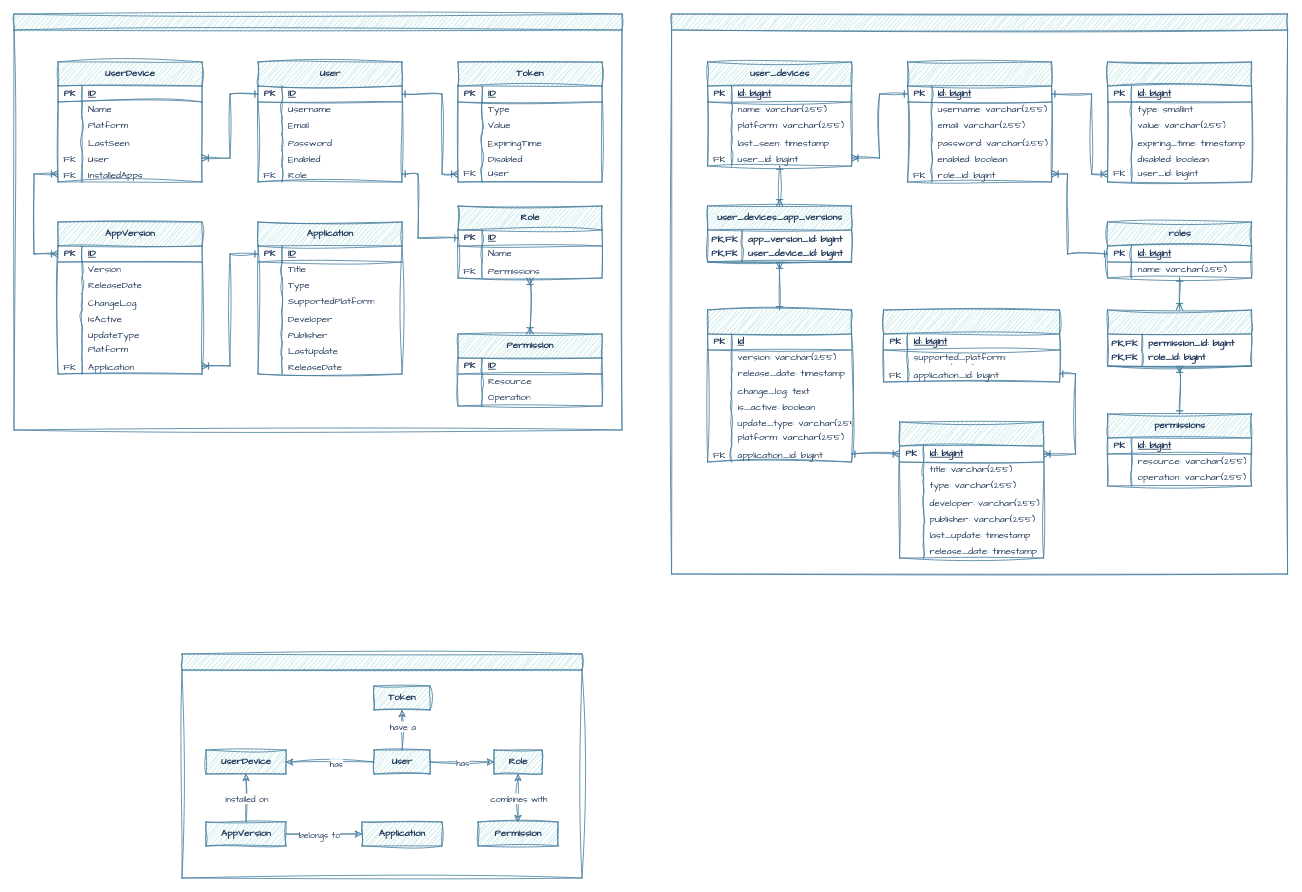
The diagram is 1302 pixels wide and 892 high, and some of its shapes have lost their labels. The shapes that lost their labels are listed below. From the top down, each one's box as (x1, y1, x2, y2) in pixels, then its label:
(907, 61, 1052, 182): users
(1107, 61, 1252, 182): tokens
(13, 13, 622, 430): Logical Schema
(671, 13, 1288, 574): Physical Schema (PostgreSQL)
(883, 309, 1060, 382): application_supported_platform
(1107, 309, 1252, 366): role_permission
(707, 309, 852, 462): app_versions
(899, 421, 1044, 558): applications
(181, 653, 582, 878): Conceptual Schema
